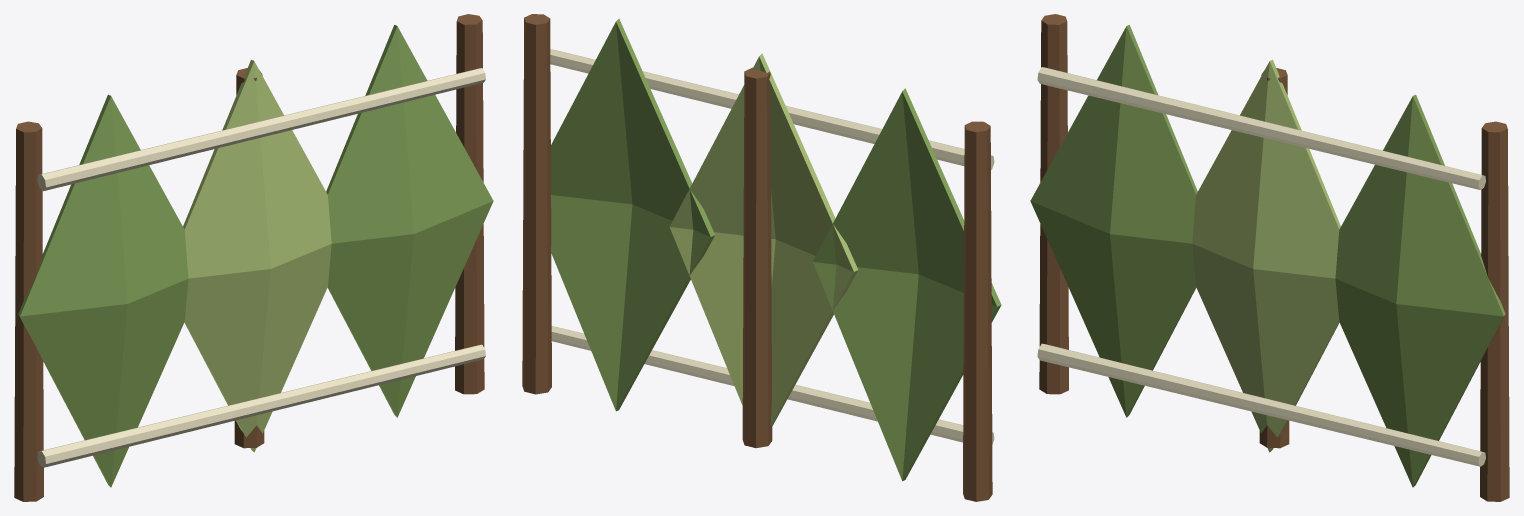
File: CC_LeafWall.fbx
3 views of the same model, side by side, from view 1: azimuth 30°, elevation 25°; view 2: azimuth 150°, elevation 25°; view 3: azimuth 330°, elevation 25° (orthographic).
Visible parts, largest first — view 1: Panel, Panel.002, Panel.001, Frame, Binding rail.001, Binding rail, Frame.002, Frame.001; view 2: Panel.002, Panel, Panel.001, Frame.002, Frame, Frame.001, Binding rail.001, Binding rail; view 3: Panel.002, Panel, Panel.001, Frame.002, Binding rail, Binding rail.001, Frame, Frame.001.
Boxes of the visible parts, left/top/right/bottom form: Panel: left=18, top=94, right=188, bottom=487; Panel.002: left=326, top=25, right=493, bottom=417; Panel.001: left=183, top=59, right=331, bottom=452; Frame: left=14, top=121, right=43, bottom=501; Binding rail.001: left=37, top=68, right=485, bottom=191; Binding rail: left=37, top=344, right=485, bottom=467; Frame.002: left=455, top=14, right=484, bottom=394; Frame.001: left=234, top=68, right=264, bottom=448; Panel.002: left=550, top=18, right=714, bottom=411; Panel: left=813, top=88, right=1001, bottom=480; Panel.001: left=669, top=53, right=858, bottom=425; Frame.002: left=522, top=14, right=551, bottom=394; Frame: left=963, top=121, right=992, bottom=501; Frame.001: left=742, top=67, right=772, bottom=448; Binding rail.001: left=550, top=49, right=994, bottom=169; Binding rail: left=551, top=326, right=994, bottom=444; Panel.002: left=1335, top=94, right=1505, bottom=487; Panel: left=1030, top=25, right=1197, bottom=417; Panel.001: left=1192, top=59, right=1340, bottom=452; Frame.002: left=1480, top=121, right=1509, bottom=501; Binding rail: left=1037, top=343, right=1485, bottom=466; Binding rail.001: left=1037, top=67, right=1485, bottom=189; Frame: left=1039, top=14, right=1068, bottom=394; Frame.001: left=1259, top=68, right=1289, bottom=448.
Size of the model in its own units: 2.15 by 1.7 by 0.2241.
